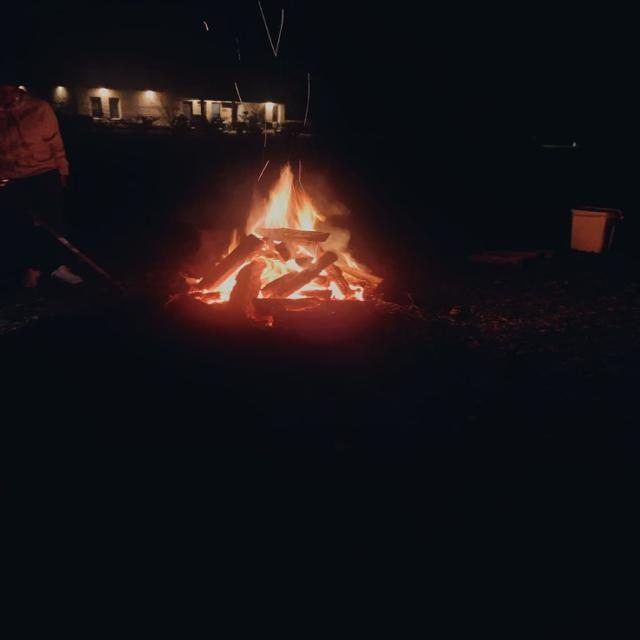fire: (213, 162, 363, 302)
